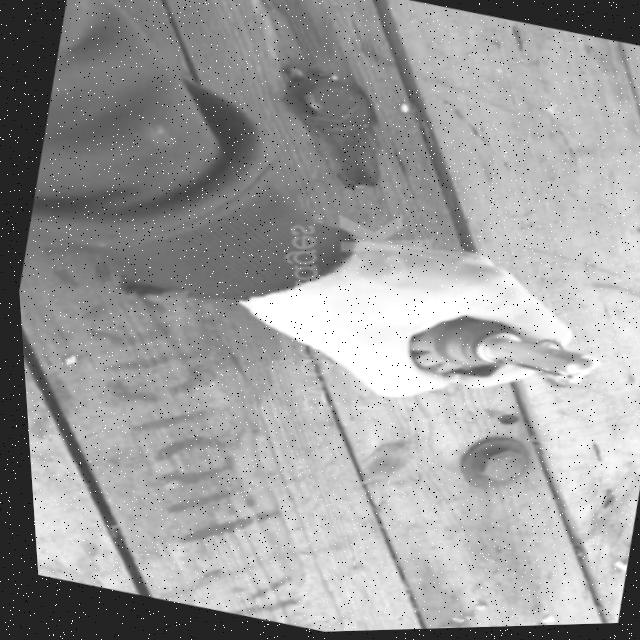grenade: (381, 276, 615, 435)
